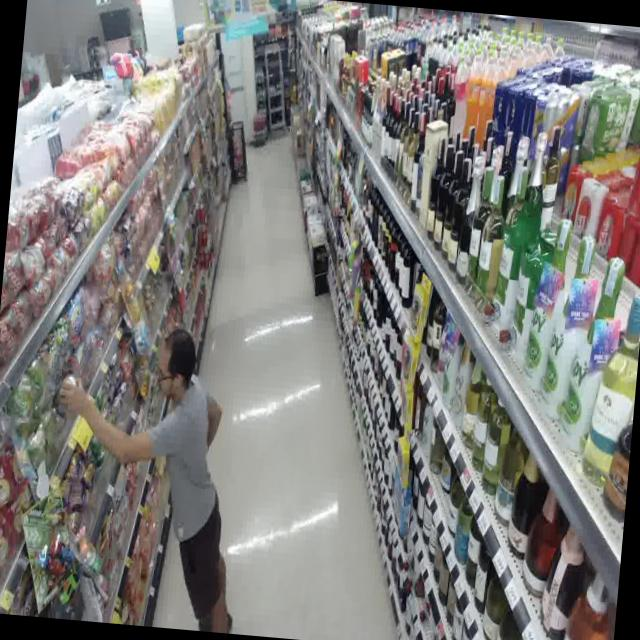pickup: (24, 298, 266, 634)
